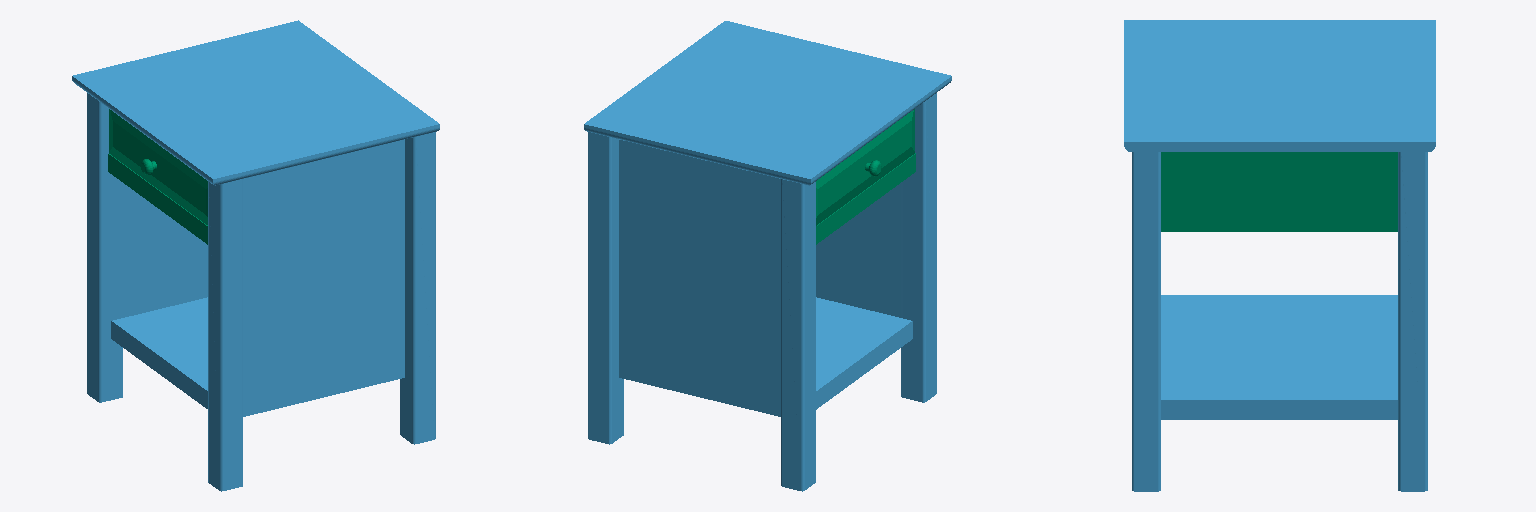
The robot description file, URDF, robot "partnet_a95828fa4607295674c8eb7e4d6198a5":
<?xml version="1.0" ?>
<robot name="partnet_a95828fa4607295674c8eb7e4d6198a5">
	<link name="base"/>
	<link name="link_0">
		<visual name="board-51">
			<origin xyz="0 0 0"/>
			<geometry>
				<mesh filename="textured_objs/original-3.obj"/>
			</geometry>
		</visual>
		<visual name="shelf-41">
			<origin xyz="0 0 0"/>
			<geometry>
				<mesh filename="textured_objs/original-12.obj"/>
			</geometry>
		</visual>
		<visual name="shelf-41">
			<origin xyz="0 0 0"/>
			<geometry>
				<mesh filename="textured_objs/original-13.obj"/>
			</geometry>
		</visual>
		<visual name="shelf-41">
			<origin xyz="0 0 0"/>
			<geometry>
				<mesh filename="textured_objs/original-14.obj"/>
			</geometry>
		</visual>
		<visual name="vertical_side_panel-42">
			<origin xyz="0 0 0"/>
			<geometry>
				<mesh filename="textured_objs/original-27.obj"/>
			</geometry>
		</visual>
		<visual name="vertical_side_panel-43">
			<origin xyz="0 0 0"/>
			<geometry>
				<mesh filename="textured_objs/original-20.obj"/>
			</geometry>
		</visual>
		<visual name="leg-44">
			<origin xyz="0 0 0"/>
			<geometry>
				<mesh filename="textured_objs/original-19.obj"/>
			</geometry>
		</visual>
		<visual name="leg-45">
			<origin xyz="0 0 0"/>
			<geometry>
				<mesh filename="textured_objs/original-28.obj"/>
			</geometry>
		</visual>
		<visual name="leg-46">
			<origin xyz="0 0 0"/>
			<geometry>
				<mesh filename="textured_objs/original-21.obj"/>
			</geometry>
		</visual>
		<visual name="leg-47">
			<origin xyz="0 0 0"/>
			<geometry>
				<mesh filename="textured_objs/original-26.obj"/>
			</geometry>
		</visual>
		<visual name="other_leaf-65">
			<origin xyz="0 0 0"/>
			<geometry>
				<mesh filename="textured_objs/original-2.obj"/>
			</geometry>
		</visual>
		<collision>
			<origin xyz="0 0 0"/>
			<geometry>
				<mesh filename="textured_objs/original-3.obj"/>
			</geometry>
		</collision>
		<collision>
			<origin xyz="0 0 0"/>
			<geometry>
				<mesh filename="textured_objs/original-12.obj"/>
			</geometry>
		</collision>
		<collision>
			<origin xyz="0 0 0"/>
			<geometry>
				<mesh filename="textured_objs/original-13.obj"/>
			</geometry>
		</collision>
		<collision>
			<origin xyz="0 0 0"/>
			<geometry>
				<mesh filename="textured_objs/original-14.obj"/>
			</geometry>
		</collision>
		<collision>
			<origin xyz="0 0 0"/>
			<geometry>
				<mesh filename="textured_objs/original-27.obj"/>
			</geometry>
		</collision>
		<collision>
			<origin xyz="0 0 0"/>
			<geometry>
				<mesh filename="textured_objs/original-20.obj"/>
			</geometry>
		</collision>
		<collision>
			<origin xyz="0 0 0"/>
			<geometry>
				<mesh filename="textured_objs/original-19.obj"/>
			</geometry>
		</collision>
		<collision>
			<origin xyz="0 0 0"/>
			<geometry>
				<mesh filename="textured_objs/original-28.obj"/>
			</geometry>
		</collision>
		<collision>
			<origin xyz="0 0 0"/>
			<geometry>
				<mesh filename="textured_objs/original-21.obj"/>
			</geometry>
		</collision>
		<collision>
			<origin xyz="0 0 0"/>
			<geometry>
				<mesh filename="textured_objs/original-26.obj"/>
			</geometry>
		</collision>
		<collision>
			<origin xyz="0 0 0"/>
			<geometry>
				<mesh filename="textured_objs/original-2.obj"/>
			</geometry>
		</collision>
	</link>
	<joint name="joint_0" type="fixed">
		<origin rpy="1.570796326794897 0 -1.570796326794897" xyz="0 0 0"/>
		<child link="link_0"/>
		<parent link="base"/>
	</joint>
	<link name="link_1">
		<visual name="handle-49">
			<origin xyz="0 0 0"/>
			<geometry>
				<mesh filename="textured_objs/original-17.obj"/>
			</geometry>
		</visual>
		<visual name="drawer_front-59">
			<origin xyz="0 0 0"/>
			<geometry>
				<mesh filename="textured_objs/original-7.obj"/>
			</geometry>
		</visual>
		<visual name="drawer_front-59">
			<origin xyz="0 0 0"/>
			<geometry>
				<mesh filename="textured_objs/original-23.obj"/>
			</geometry>
		</visual>
		<visual name="drawer_front-59">
			<origin xyz="0 0 0"/>
			<geometry>
				<mesh filename="textured_objs/original-1.obj"/>
			</geometry>
		</visual>
		<visual name="drawer_side-60">
			<origin xyz="0 0 0"/>
			<geometry>
				<mesh filename="textured_objs/original-6.obj"/>
			</geometry>
		</visual>
		<visual name="drawer_side-61">
			<origin xyz="0 0 0"/>
			<geometry>
				<mesh filename="textured_objs/original-10.obj"/>
			</geometry>
		</visual>
		<visual name="drawer_back-62">
			<origin xyz="0 0 0"/>
			<geometry>
				<mesh filename="textured_objs/original-9.obj"/>
			</geometry>
		</visual>
		<visual name="drawer_back-62">
			<origin xyz="0 0 0"/>
			<geometry>
				<mesh filename="textured_objs/original-4.obj"/>
			</geometry>
		</visual>
		<visual name="drawer_bottom-63">
			<origin xyz="0 0 0"/>
			<geometry>
				<mesh filename="textured_objs/original-24.obj"/>
			</geometry>
		</visual>
		<visual name="drawer_bottom-63">
			<origin xyz="0 0 0"/>
			<geometry>
				<mesh filename="textured_objs/original-8.obj"/>
			</geometry>
		</visual>
		<collision>
			<origin xyz="0 0 0"/>
			<geometry>
				<mesh filename="textured_objs/original-17.obj"/>
			</geometry>
		</collision>
		<collision>
			<origin xyz="0 0 0"/>
			<geometry>
				<mesh filename="textured_objs/original-7.obj"/>
			</geometry>
		</collision>
		<collision>
			<origin xyz="0 0 0"/>
			<geometry>
				<mesh filename="textured_objs/original-23.obj"/>
			</geometry>
		</collision>
		<collision>
			<origin xyz="0 0 0"/>
			<geometry>
				<mesh filename="textured_objs/original-1.obj"/>
			</geometry>
		</collision>
		<collision>
			<origin xyz="0 0 0"/>
			<geometry>
				<mesh filename="textured_objs/original-6.obj"/>
			</geometry>
		</collision>
		<collision>
			<origin xyz="0 0 0"/>
			<geometry>
				<mesh filename="textured_objs/original-10.obj"/>
			</geometry>
		</collision>
		<collision>
			<origin xyz="0 0 0"/>
			<geometry>
				<mesh filename="textured_objs/original-9.obj"/>
			</geometry>
		</collision>
		<collision>
			<origin xyz="0 0 0"/>
			<geometry>
				<mesh filename="textured_objs/original-4.obj"/>
			</geometry>
		</collision>
		<collision>
			<origin xyz="0 0 0"/>
			<geometry>
				<mesh filename="textured_objs/original-24.obj"/>
			</geometry>
		</collision>
		<collision>
			<origin xyz="0 0 0"/>
			<geometry>
				<mesh filename="textured_objs/original-8.obj"/>
			</geometry>
		</collision>
	</link>
	<joint name="joint_1" type="prismatic">
		<origin xyz="0 0 0"/>
		<axis xyz="0 0 1"/>
		<child link="link_1"/>
		<parent link="link_0"/>
		<limit lower="0" upper="0.7120000000000002"/>
	</joint>
</robot>

--- Render facts (derived) ---
Views: 3 orthographic renders of the robot side by side, from view 1: azimuth 30°, elevation 25°; view 2: azimuth 150°, elevation 25°; view 3: azimuth 270°, elevation 25°.
Robot: partnet_a95828fa4607295674c8eb7e4d6198a5 — 3 links, 2 joints (1 prismatic, 1 fixed); root link base; default pose: all joints at 0.
Visible links, largest first — view 1: link_0, link_1; view 2: link_0, link_1; view 3: link_0, link_1.
Boxes of the visible links, <box> form: link_0: <box>72,20,439,491</box>; link_1: <box>108,109,207,244</box>; link_0: <box>584,21,951,491</box>; link_1: <box>816,109,915,244</box>; link_0: <box>1124,20,1435,491</box>; link_1: <box>1161,152,1397,231</box>.
Bounding box of the posed robot: 0.8948 × 0.9671 × 1.2 m (x, y, z).
Meshes: 21 distinct files referenced, 21 mesh visuals loaded (21 OBJ).
